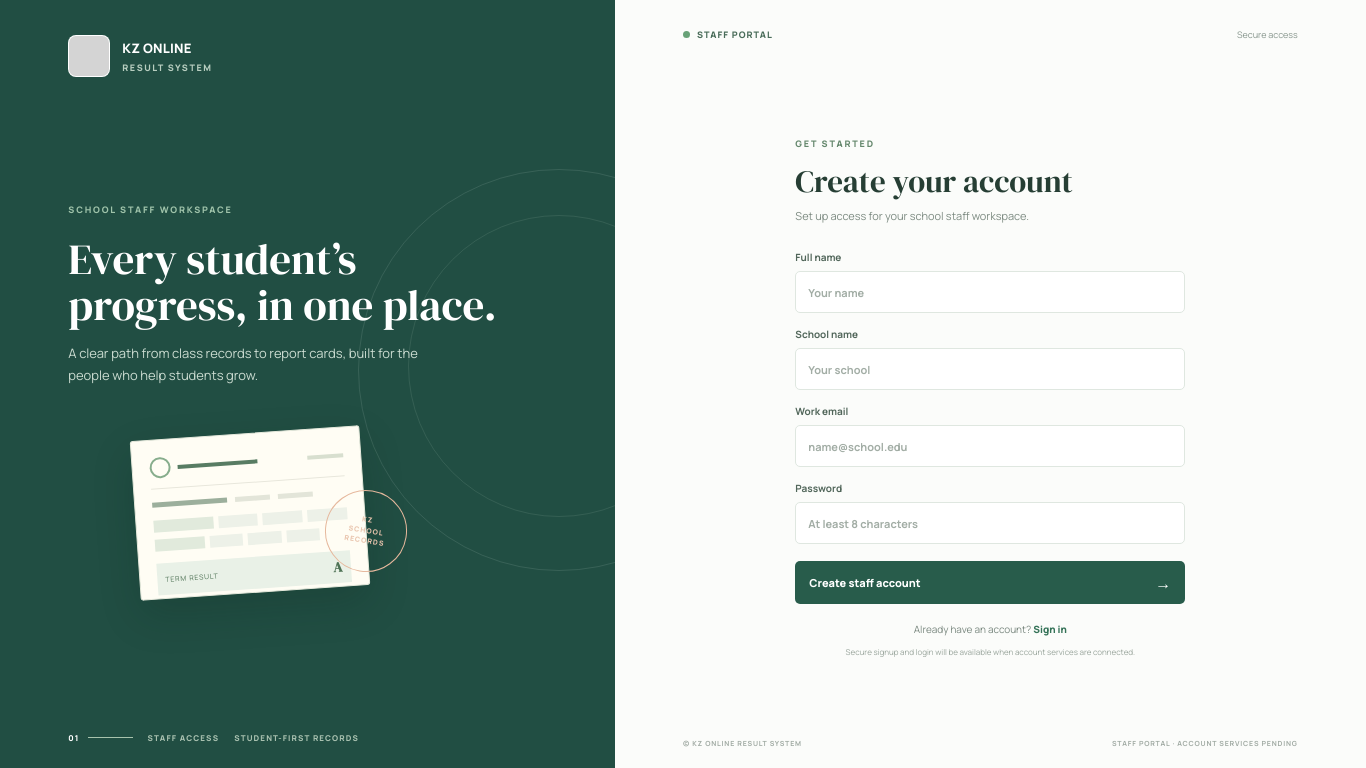
it: switches to login and shows backend authentication errors
The width and height of the screenshot is (1366, 768).
Expected: the heading "Create your account" is shown, [795,160,1073,202]
Click the button "Sign in".
click(1050, 629)  # box [1033,622,1067,636]
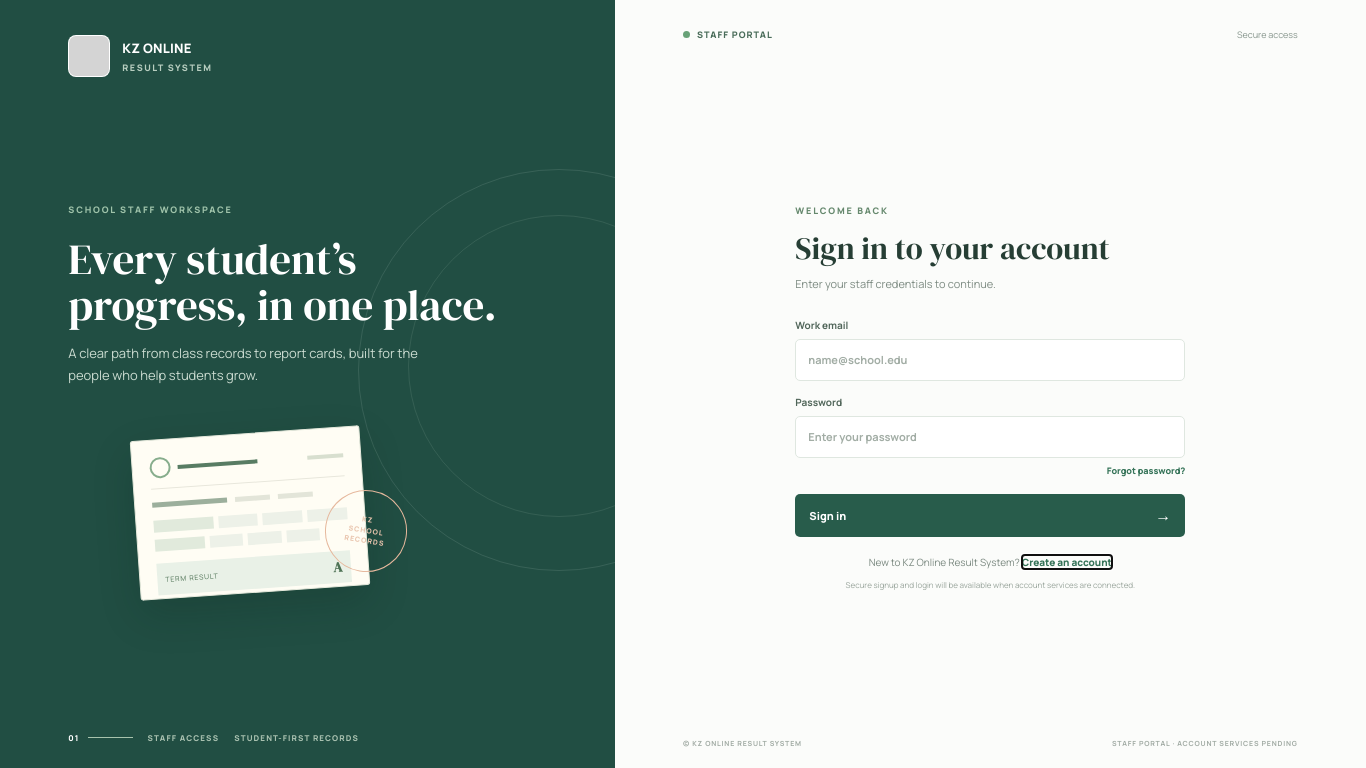
Now the heading "Sign in to your account" is shown, box [795,227,1110,269]
Now the label labelled "School name" is gone
Type "staff@example.com" into the field labelled "Work email".
click(990, 360); type("staff@example.com")  # box [795,339,1185,381]
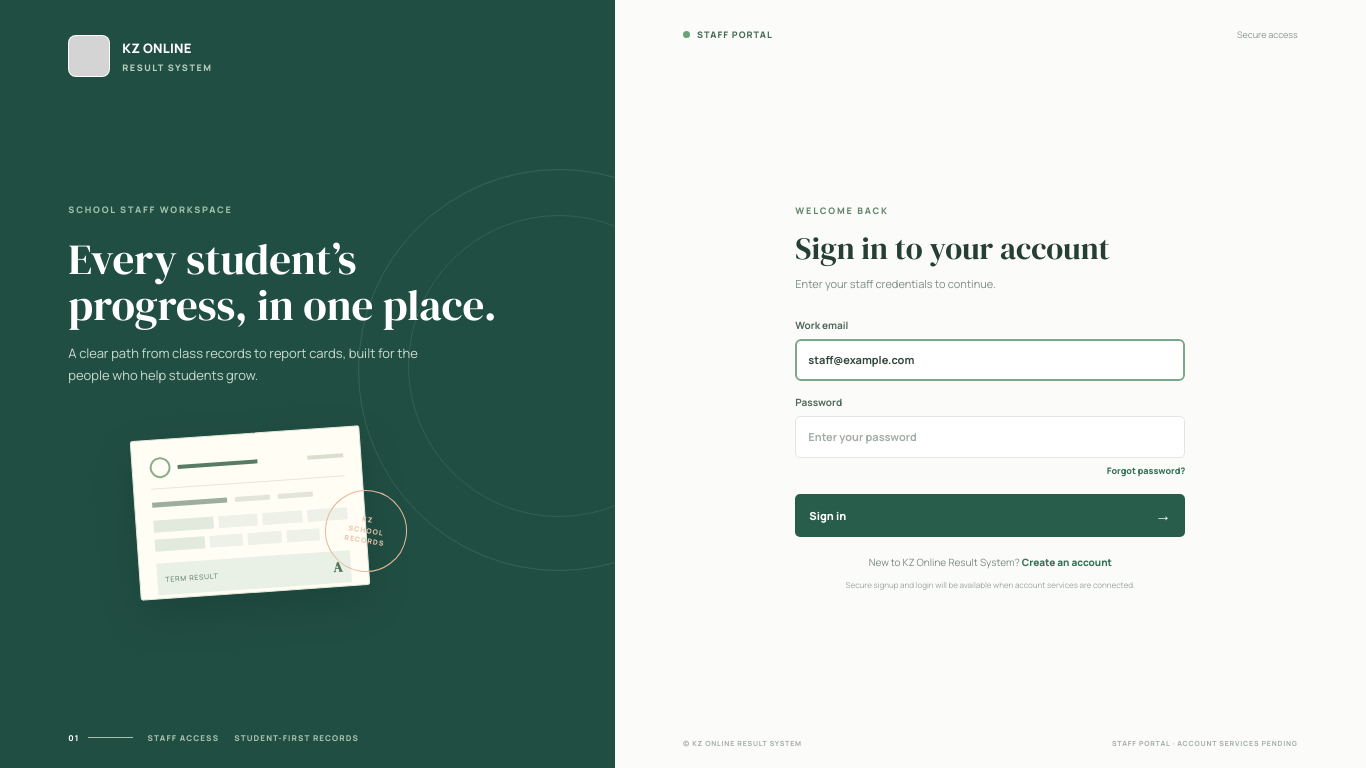
Type "not-a-real-password" into the password field labelled "Password".
click(990, 437); type("not-a-real-password")  # box [795,416,1185,458]
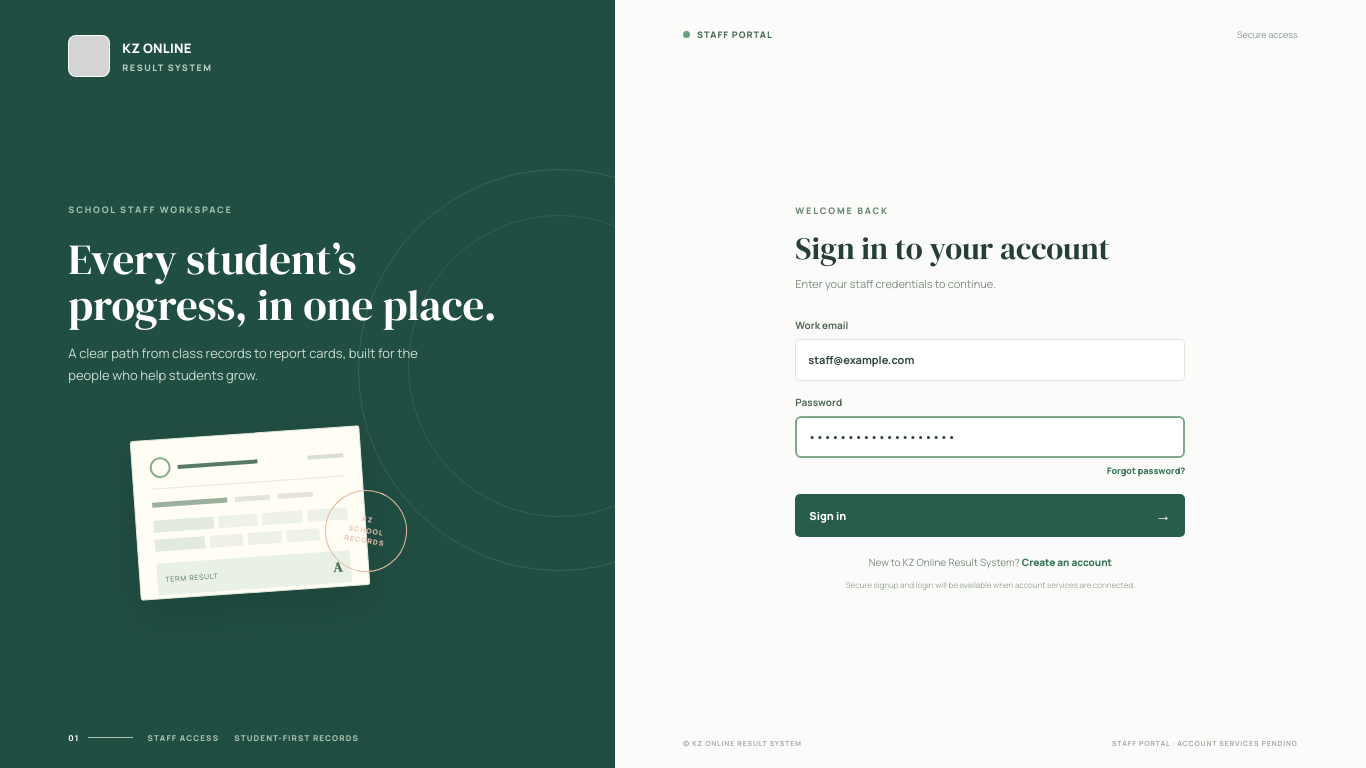
Click the button "Sign in →".
click(828, 515)  # box [795,494,1185,537]
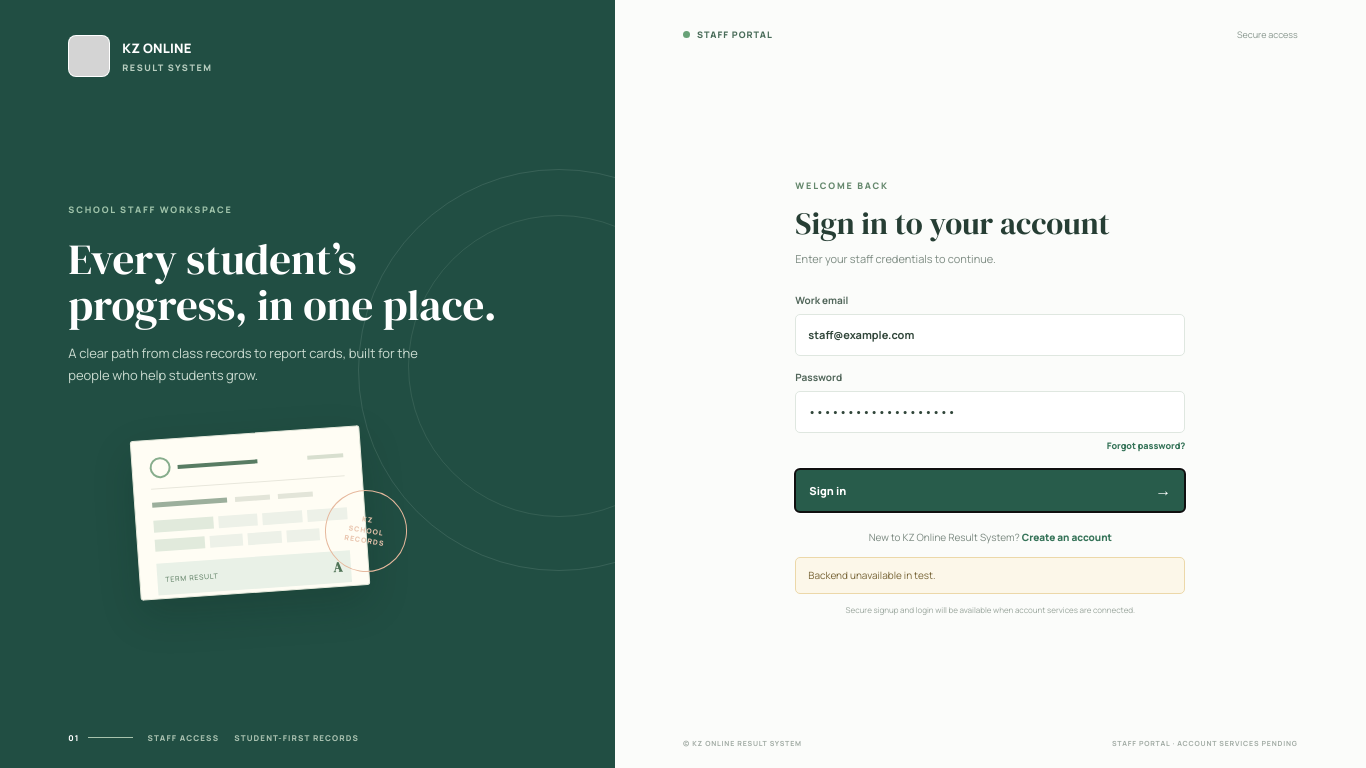
Now the message shows "Backend unavailable in test", box [808,568,936,582]
